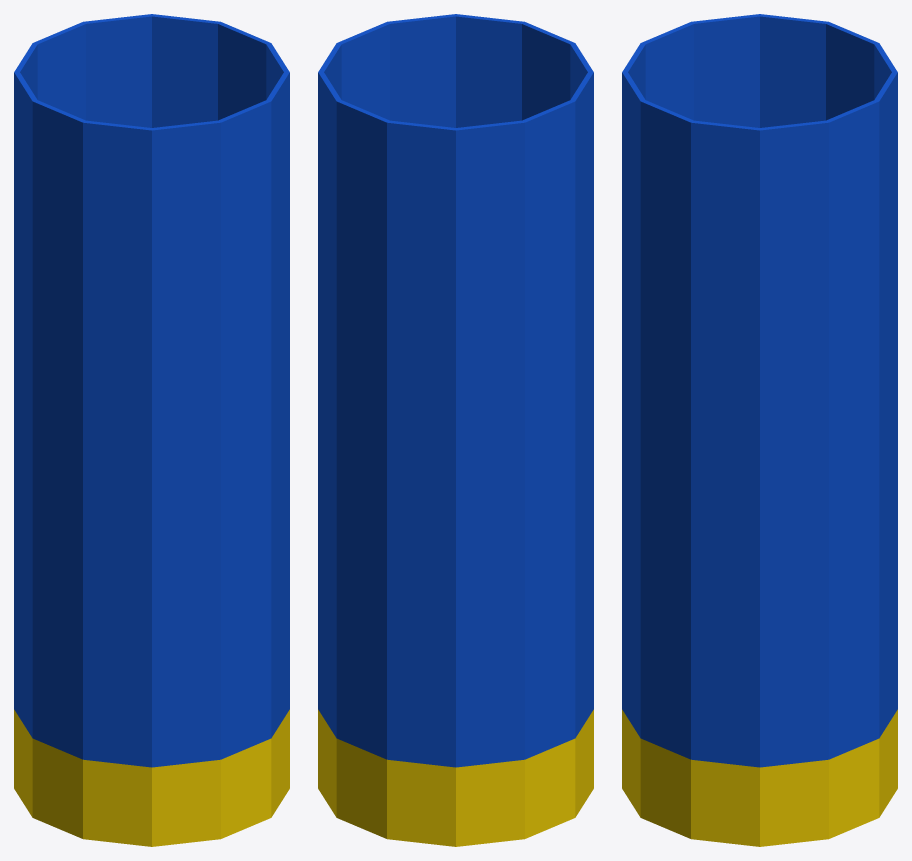
Rendered from Shotgun_Shell_1.fbx.
3 renders of one model, left to right at view 1: azimuth 30°, elevation 25°; view 2: azimuth 150°, elevation 25°; view 3: azimuth 270°, elevation 25°, orthographic.
Visible parts, largest first — view 1: Ammo_SH; view 2: Ammo_SH; view 3: Ammo_SH.
Boxes of the visible parts, box(x1,y1,x2,y2) form: Ammo_SH: box(14, 14, 289, 846); Ammo_SH: box(318, 14, 593, 846); Ammo_SH: box(622, 14, 897, 846).
Size of the model in its own units: 27.54 by 78.96 by 27.54.
